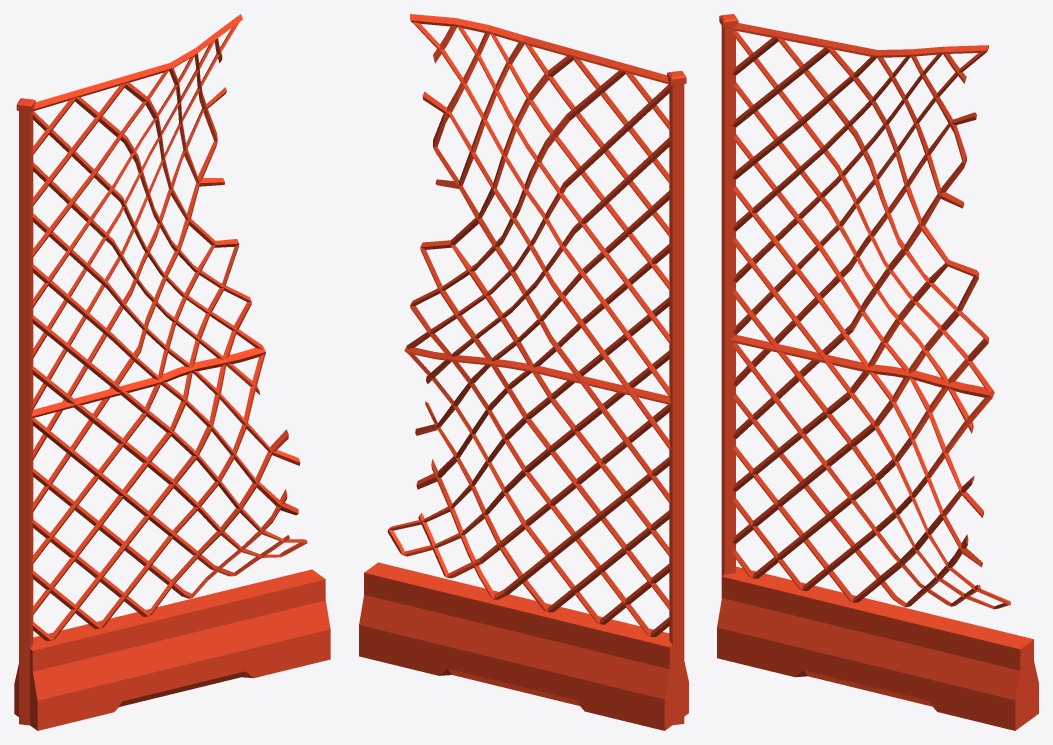
Rendered from SM_Fence_Construction_Broken_Tall_2m_City.fbx.
The picture shows the model from 3 angles, left to right: view 1: azimuth 30°, elevation 25°; view 2: azimuth 150°, elevation 25°; view 3: azimuth 330°, elevation 25°; orthographic projection. The views are drawn at different scales.
Parts seen in each view (by area): view 1: SM_Fence_Construction_Broken_Tall_2m_City; view 2: SM_Fence_Construction_Broken_Tall_2m_City; view 3: SM_Fence_Construction_Broken_Tall_2m_City.
Boxes of the visible parts, bbox=[...] form: SM_Fence_Construction_Broken_Tall_2m_City: bbox=[14, 14, 330, 730]; SM_Fence_Construction_Broken_Tall_2m_City: bbox=[359, 14, 688, 730]; SM_Fence_Construction_Broken_Tall_2m_City: bbox=[717, 14, 1038, 730].
Bounding box in the file's own units: 2.06 × 4.15 × 0.4362.
